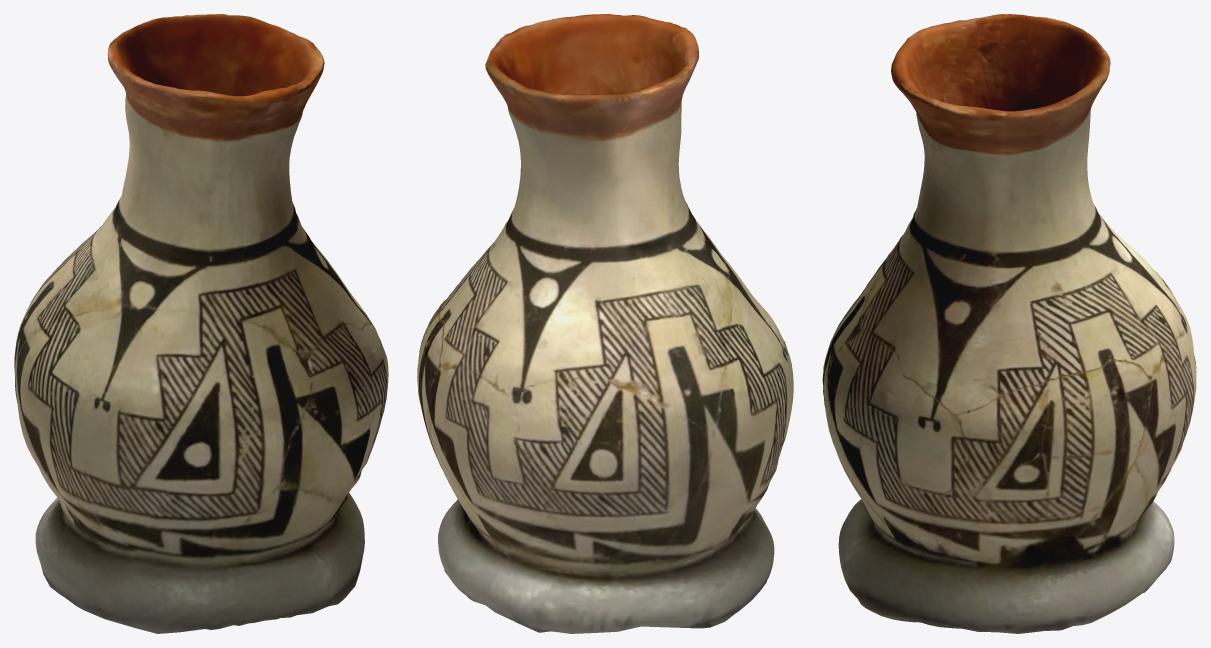
The model's file is acoma_poly.glb.
3 renders of one model, left to right at view 1: azimuth 30°, elevation 25°; view 2: azimuth 150°, elevation 25°; view 3: azimuth 270°, elevation 25°, orthographic.
Visible parts, largest first — view 1: Object_2; view 2: Object_2; view 3: Object_2.
Part boxes in pixels (<box>): Object_2: <box>14,14,388,633</box>; Object_2: <box>417,14,793,633</box>; Object_2: <box>822,14,1196,633</box>.
Size of the model in its own units: 383 by 596 by 379.
1 material, 1 textured.
